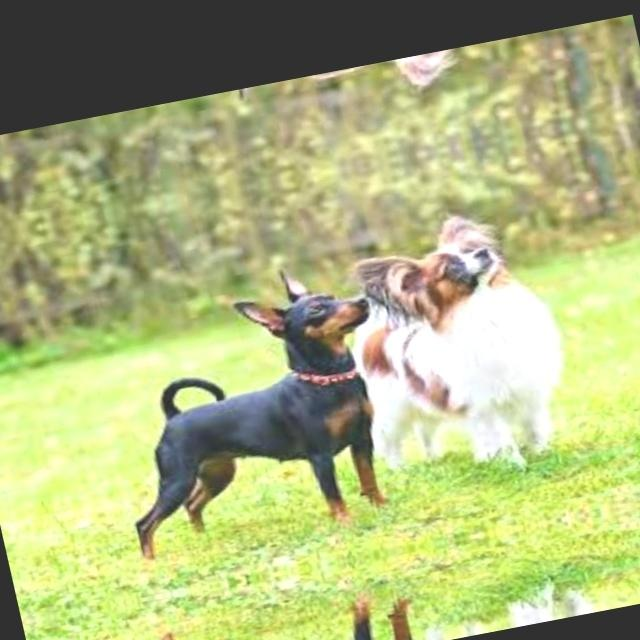dog: (82, 263, 434, 599), (146, 544, 454, 640)
